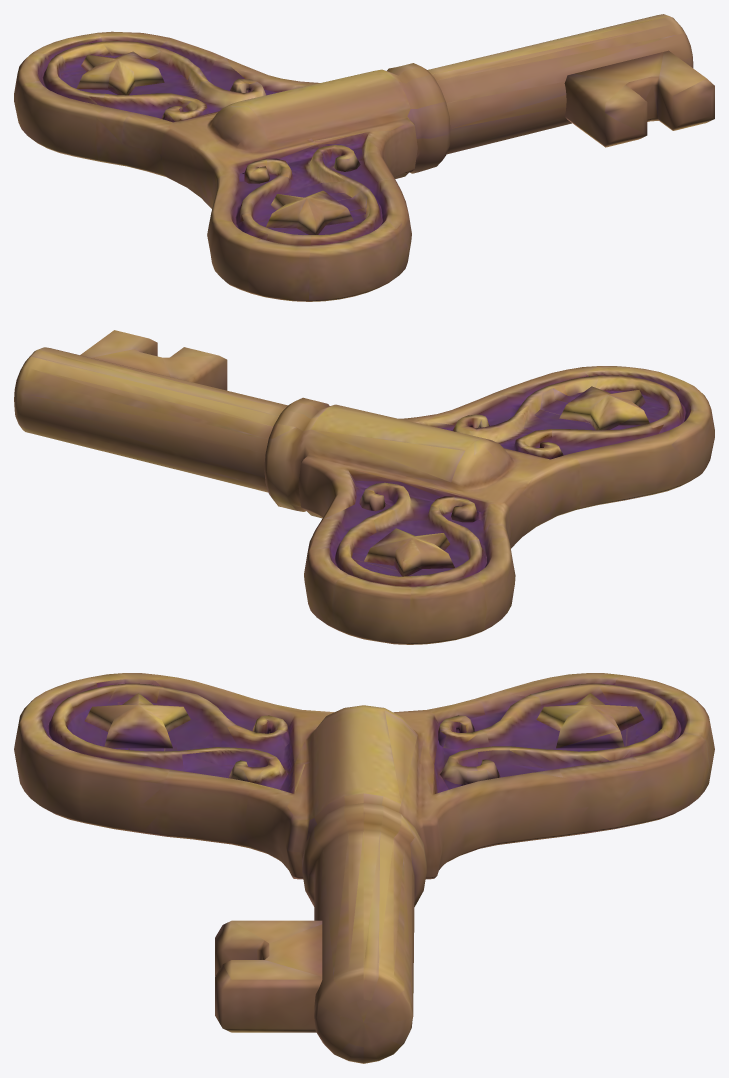
File: wrench@calliope.glb
The picture shows the model from 3 angles, top to bottom: view 1: azimuth 30°, elevation 25°; view 2: azimuth 150°, elevation 25°; view 3: azimuth 270°, elevation 25°; orthographic projection. The views are drawn at different scales.
Visible parts, largest first — view 1: wrench; view 2: wrench; view 3: wrench.
Part boxes in pixels (x1,y1,x2,y2): wrench: (14, 14, 714, 301); wrench: (14, 330, 714, 644); wrench: (14, 673, 714, 1063).
Bounding box in the file's own units: 1 × 0.182 × 0.9139.
1 material, 1 textured.
